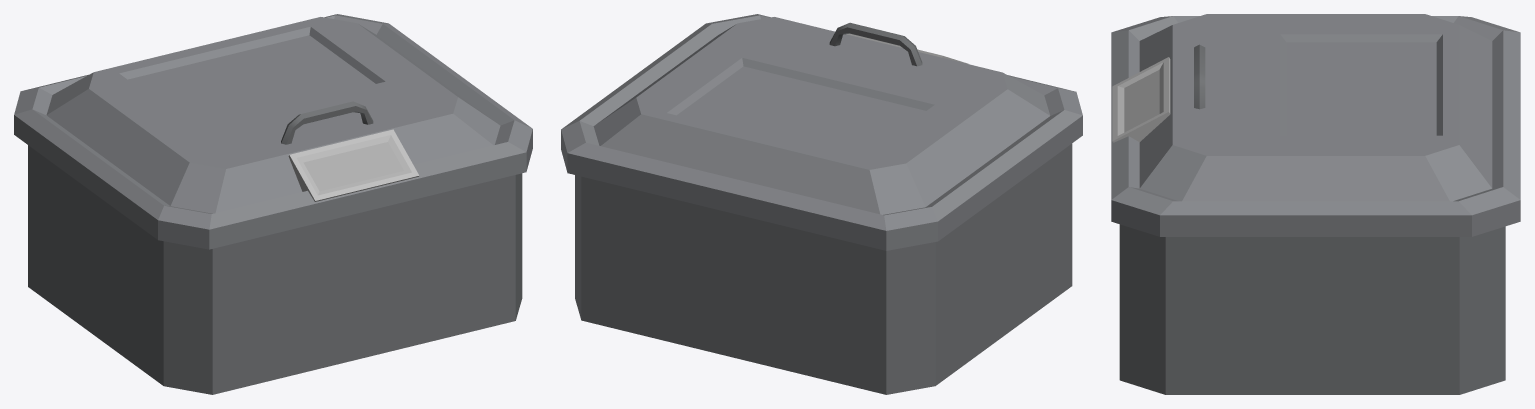
Rendered from chest_v2.fbx.
The picture shows the model from 3 angles, left to right: view 1: azimuth 30°, elevation 25°; view 2: azimuth 150°, elevation 25°; view 3: azimuth 270°, elevation 25°; orthographic projection. The views are drawn at different scales.
Visible parts, largest first — view 1: lid, container, cardReader, handle; view 2: lid, container, handle; view 3: lid, container, cardReader, handle.
Boxes of the visible parts, box(x1,y1,x2,y2) form: lid: box(14, 14, 532, 249); container: box(28, 145, 522, 394); cardReader: box(288, 129, 419, 201); handle: box(281, 101, 373, 144); lid: box(561, 14, 1082, 250); container: box(575, 143, 1072, 394); handle: box(829, 22, 922, 66); lid: box(1111, 14, 1520, 236); container: box(1119, 224, 1505, 394); cardReader: box(1112, 57, 1170, 142); handle: box(1194, 44, 1205, 109).
Size of the model in its own units: 36.01 by 20.5 by 31.44.
